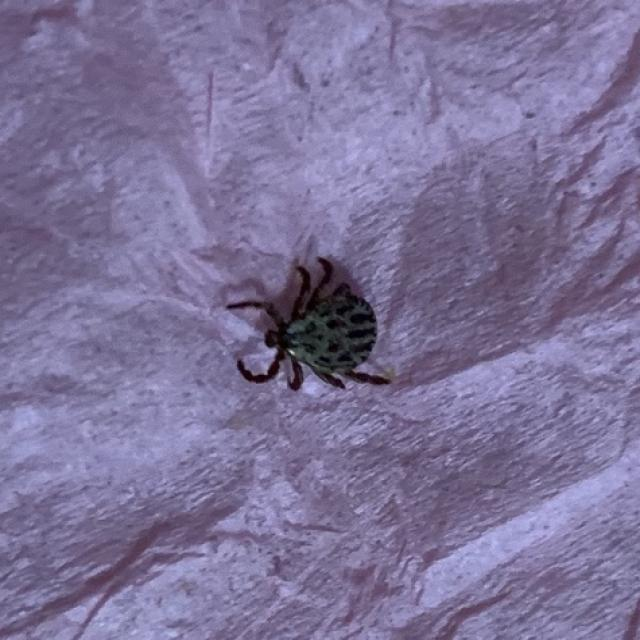Dermacentor Reticulatus-M: (226, 256, 391, 390)
